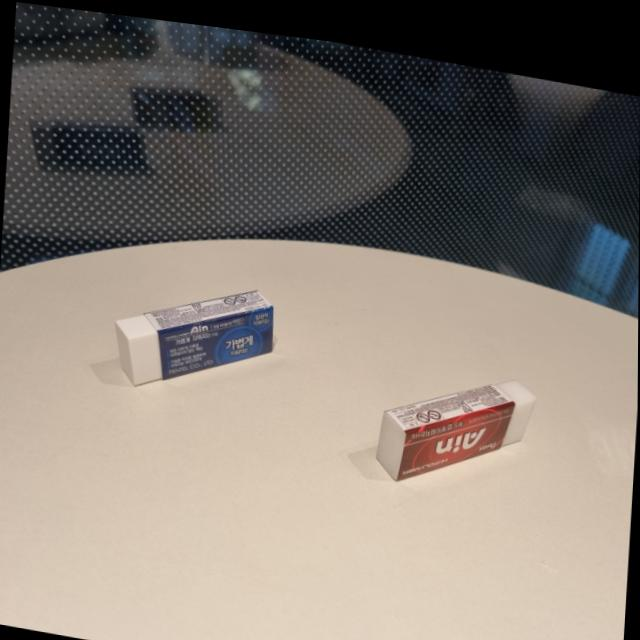blue: (112, 257, 279, 408)
red: (375, 344, 543, 499)
